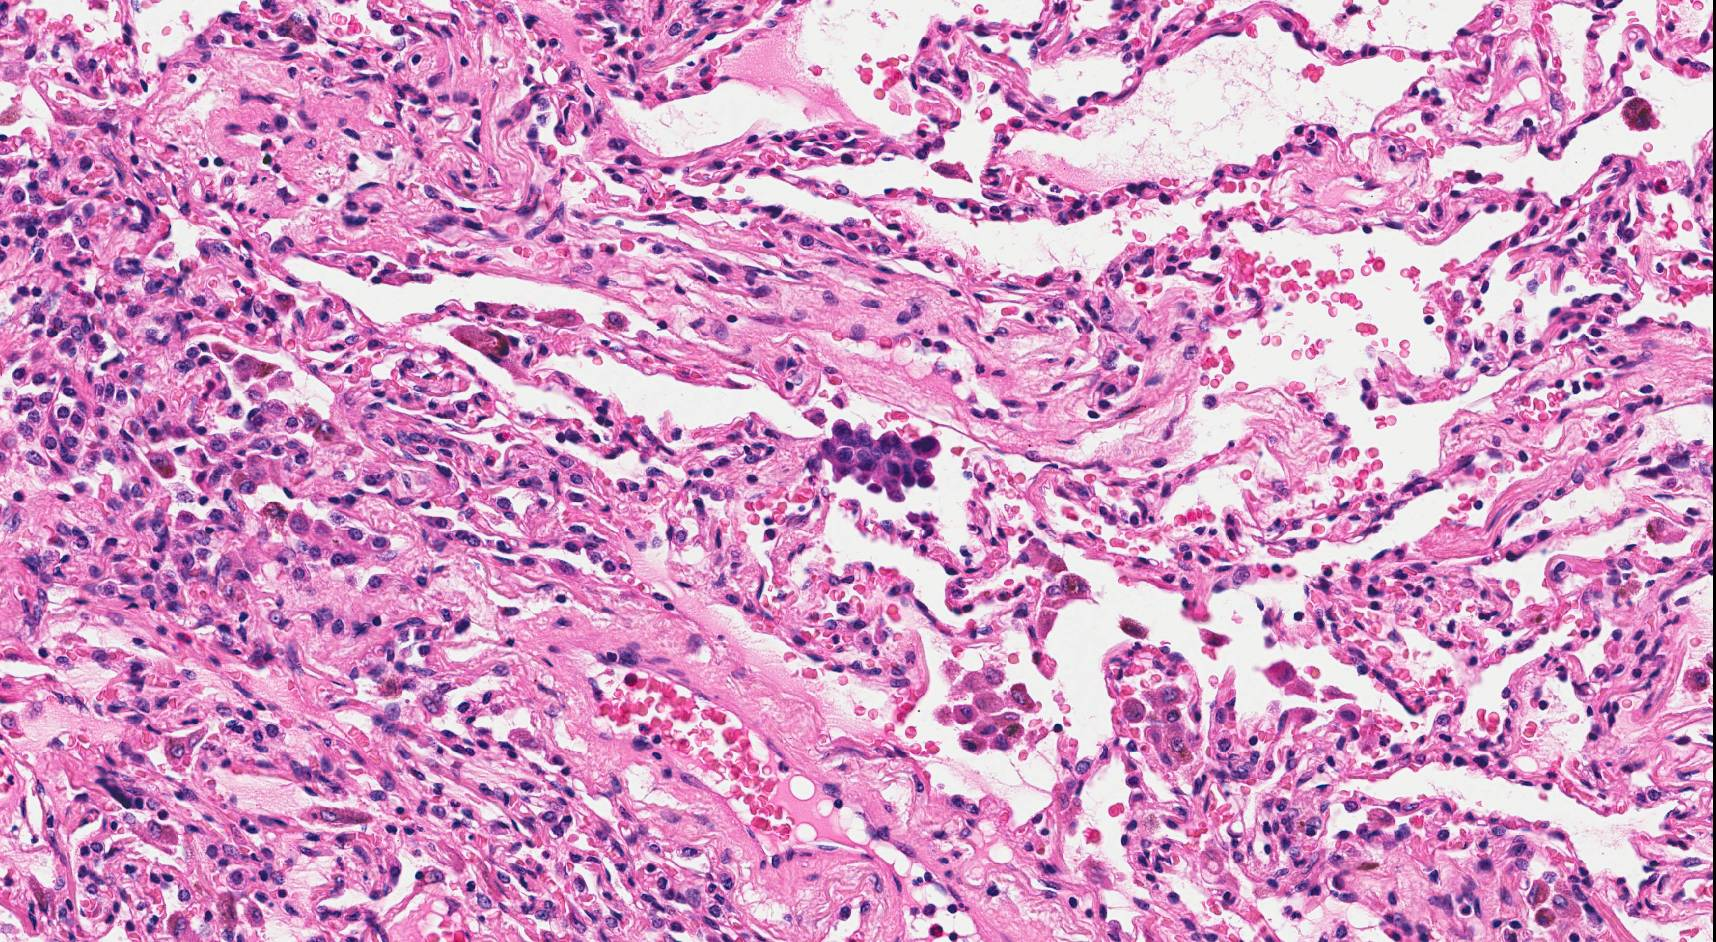stas: (811, 414, 944, 505)
